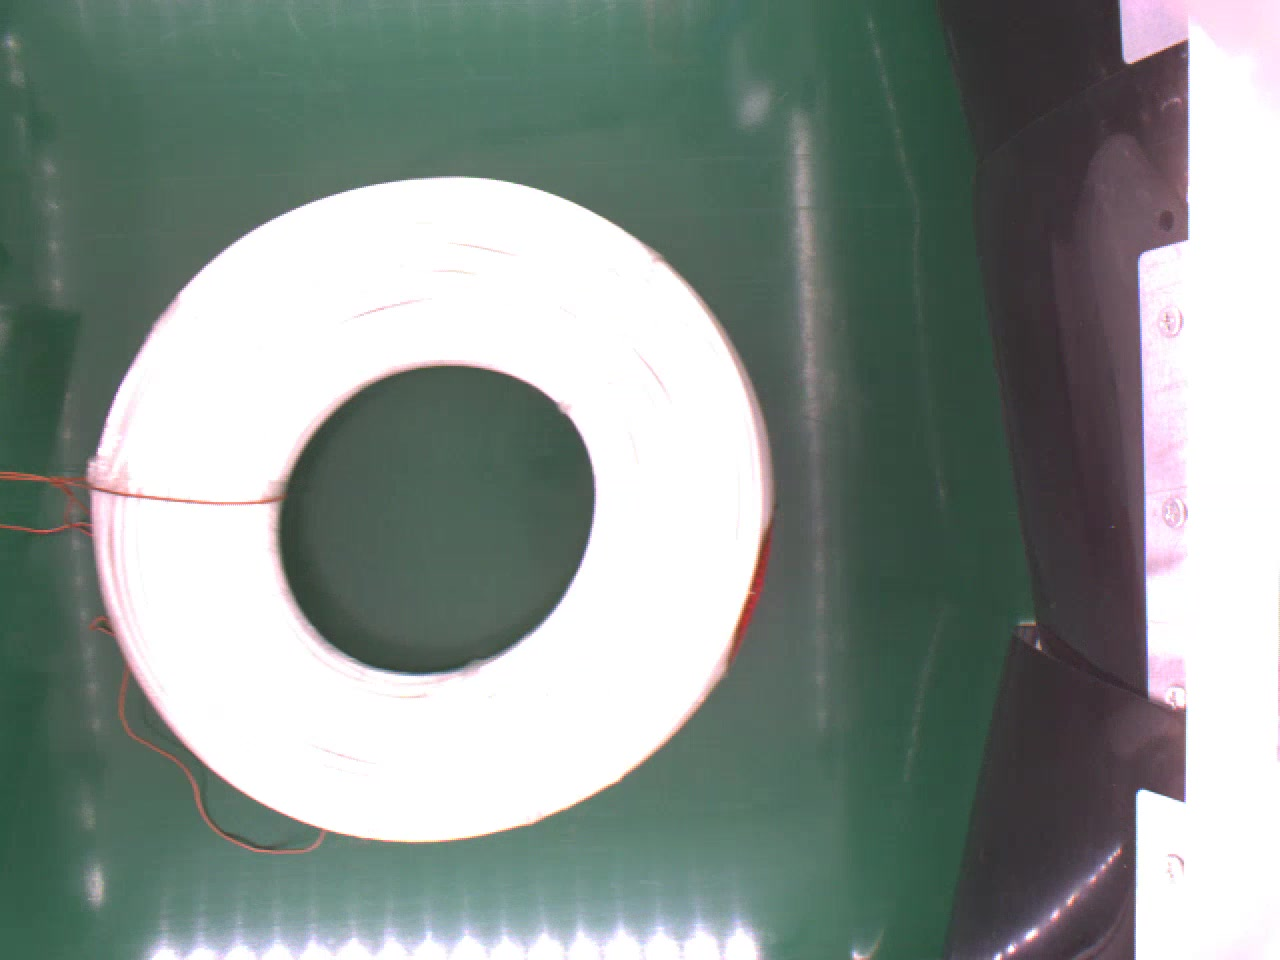white: (87, 173, 779, 844)
